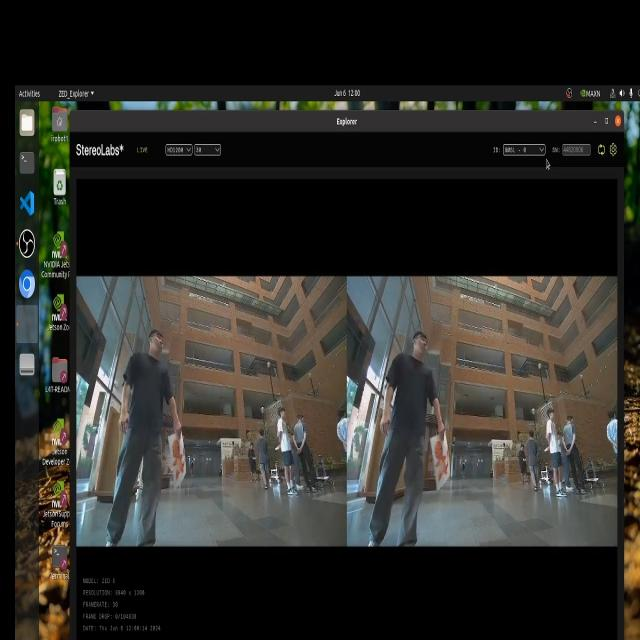red: (168, 432, 186, 484), (432, 438, 450, 478)
